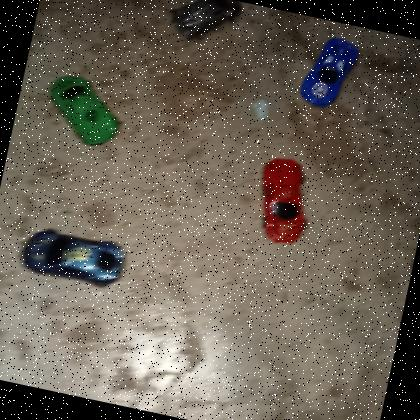Car: (18, 222, 131, 294), (38, 68, 130, 151), (248, 152, 322, 250), (297, 30, 364, 114)
